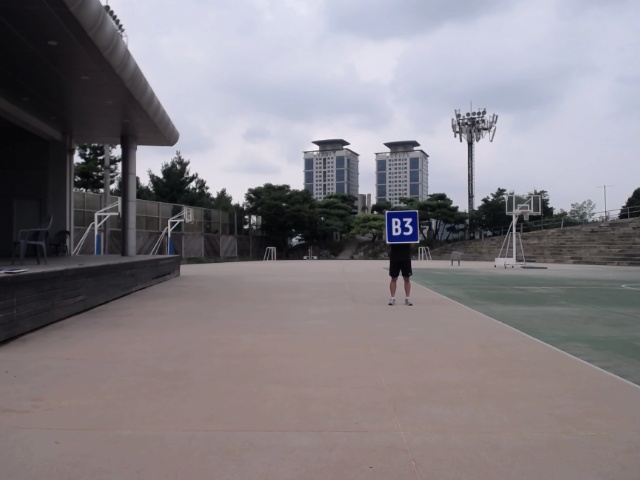delivery_b3: (385, 210, 420, 244)
